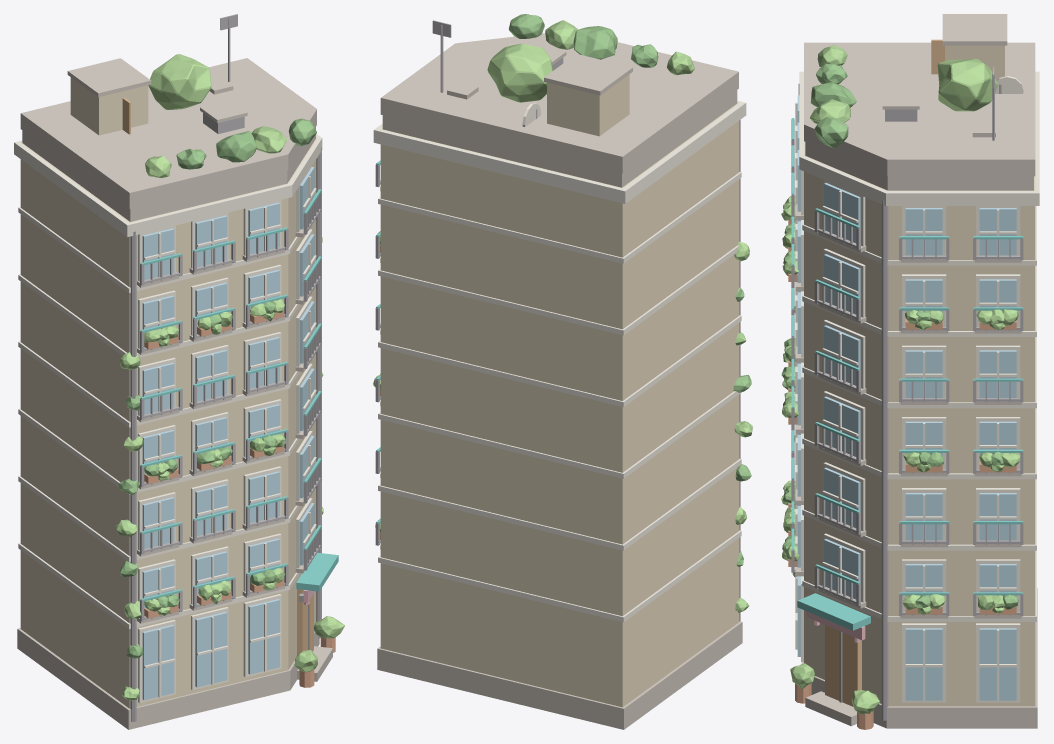
File: Building_Corner_E.fbx
The picture shows the model from 3 angles, left to right: view 1: azimuth 30°, elevation 25°; view 2: azimuth 150°, elevation 25°; view 3: azimuth 270°, elevation 25°; orthographic projection. The views are drawn at different scales.
Parts seen in each view (by area): view 1: Building_Corner_E, Building_Corner_E_Veg; view 2: Building_Corner_E, Building_Corner_E_Veg; view 3: Building_Corner_E, Building_Corner_E_Veg.
Boxes of the visible parts, <box> form: Building_Corner_E: <box>14,14,338,729</box>; Building_Corner_E_Veg: <box>115,54,344,700</box>; Building_Corner_E: <box>373,20,746,729</box>; Building_Corner_E_Veg: <box>373,14,752,612</box>; Building_Corner_E: <box>791,14,1039,728</box>; Building_Corner_E_Veg: <box>781,45,1020,729</box>.
Size of the model in its own units: 6.81 by 15.2 by 5.6.
